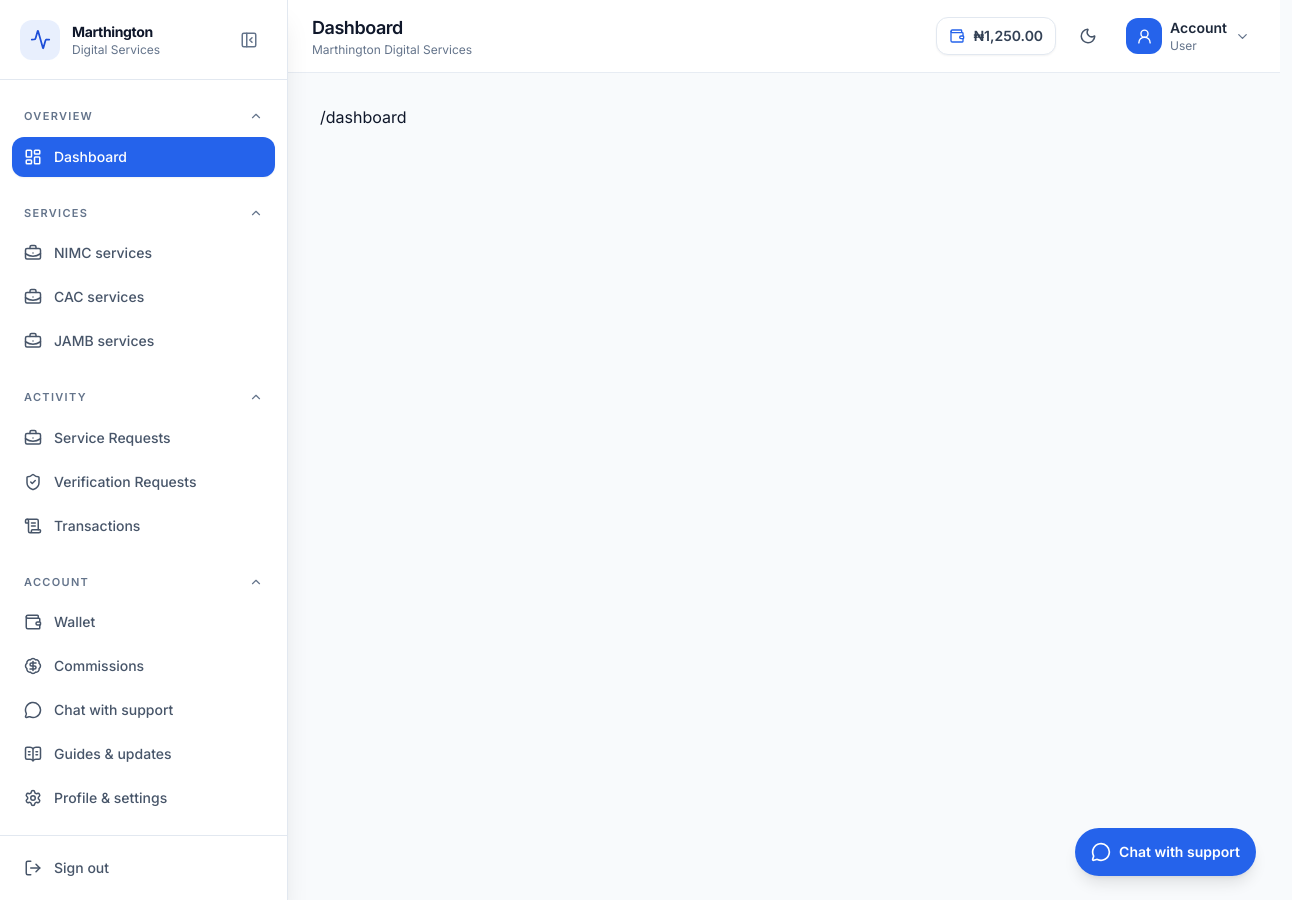
Test: dashboard shell navigation › shows active catalog categories and respects Verify NIN visibility
The width and height of the screenshot is (1292, 900).
Expected: the link "NIMC services" is shown, [24,244,152,262]
Expected: the link "CAC services" is shown, [24,288,144,306]
Step 1. Click the link "Chat with support" → [99, 710], box [24,701,173,719]
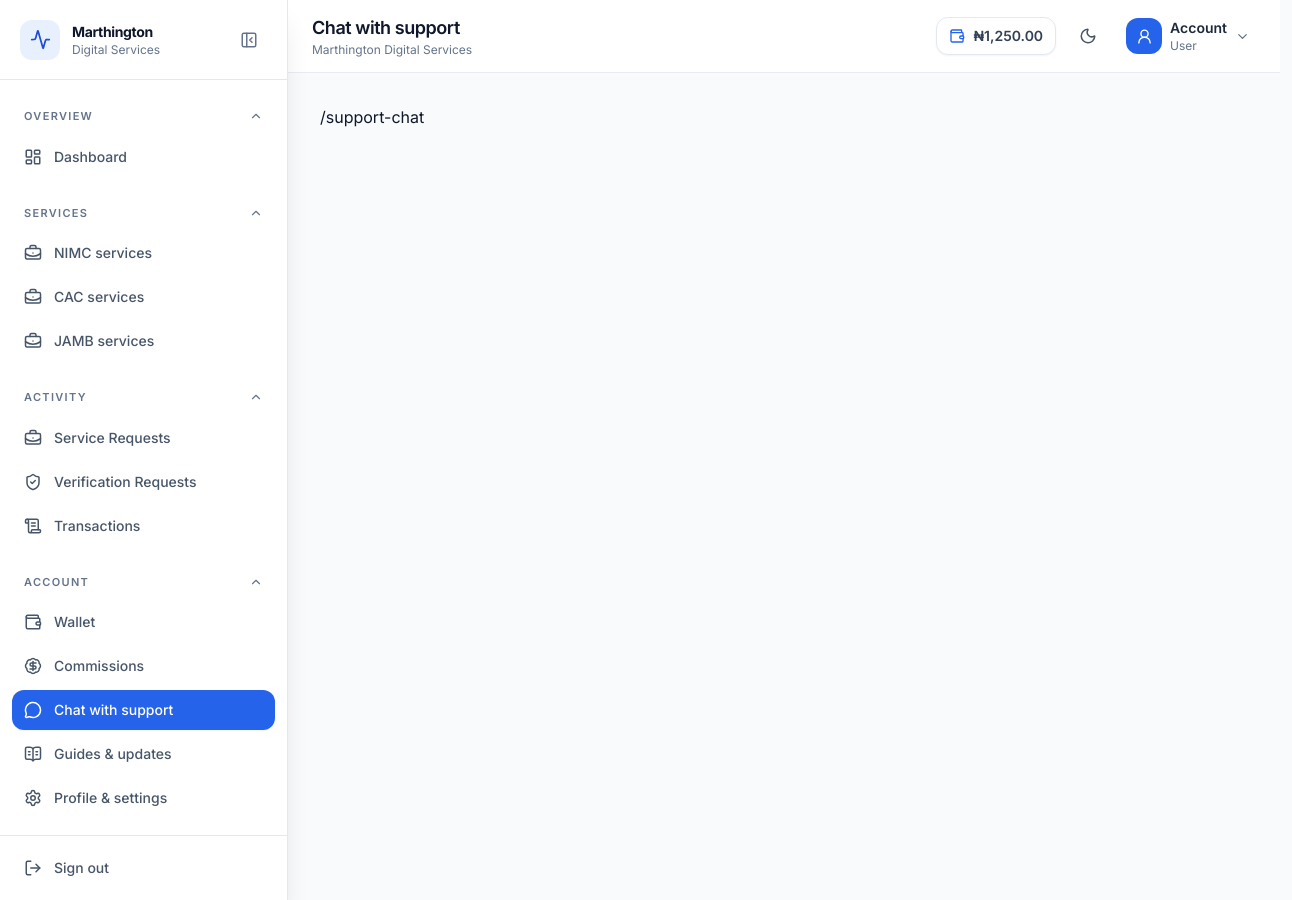
Result: the text named "Current route" reads "/support-chat" at [320,107,424,127]
